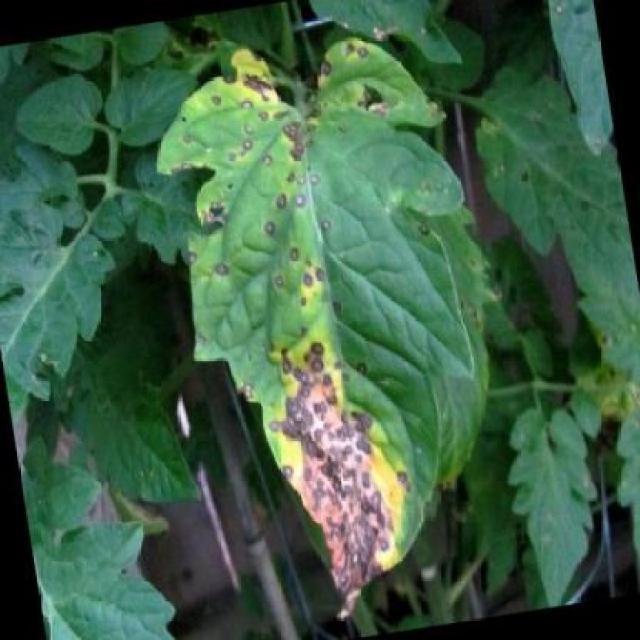Septoria leaf spot: (136, 29, 522, 640)
